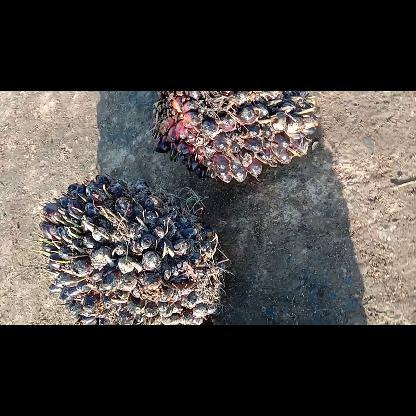TBS mentah: (34, 174, 232, 324), (148, 91, 324, 187)
